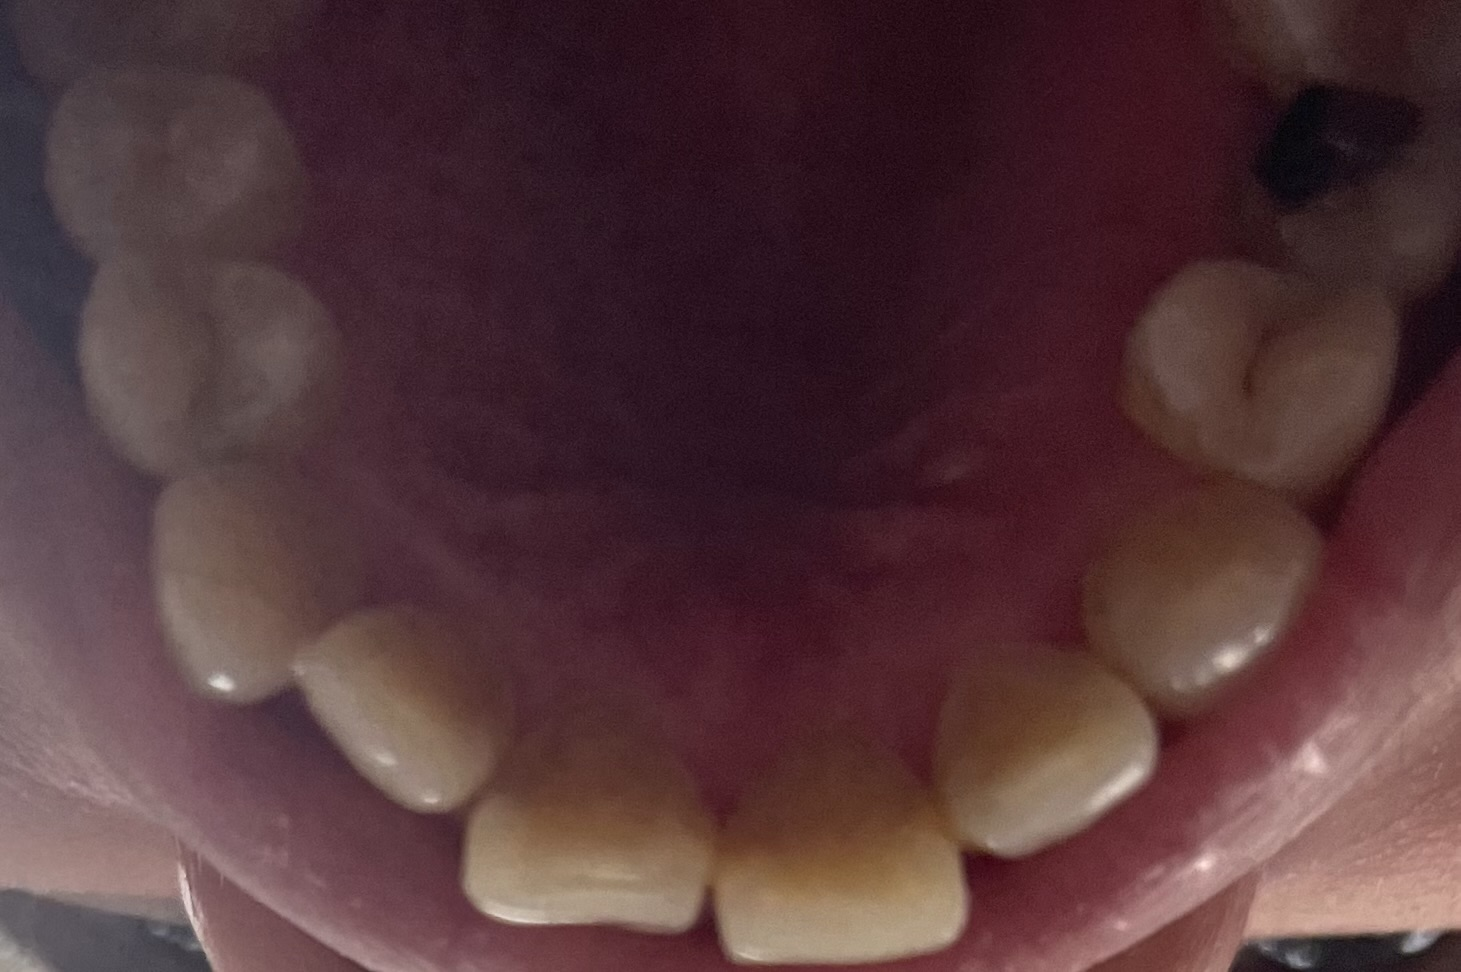teeth: (1171, 273, 1381, 470), (747, 766, 936, 937), (1124, 498, 1295, 662), (976, 678, 1130, 832), (477, 772, 693, 882), (184, 484, 299, 685), (134, 270, 290, 405), (337, 643, 472, 764), (90, 99, 231, 189)
